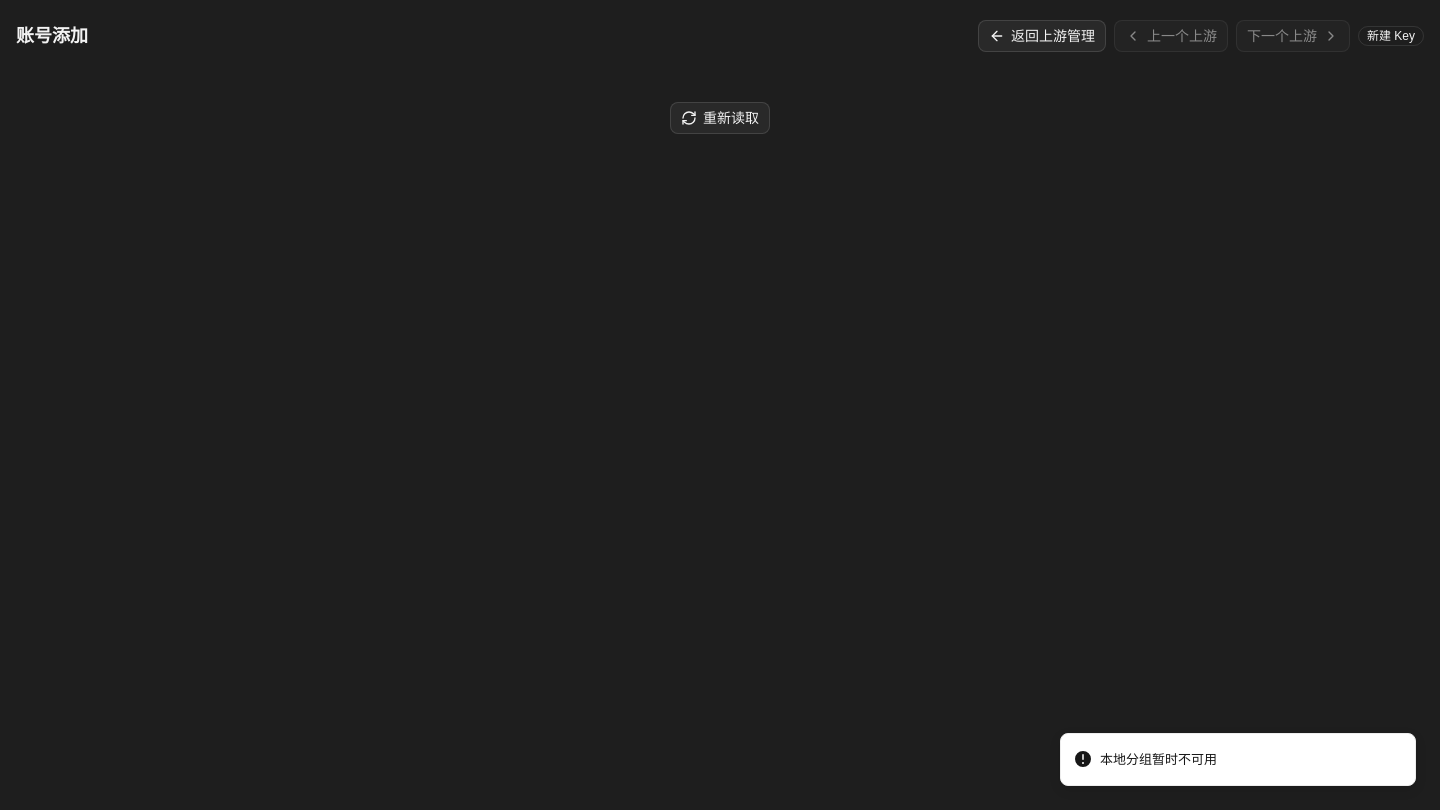
首次读取分组失败时提供重试入口并在恢复后显示开户表单
The width and height of the screenshot is (1440, 810).
Expected: the field labelled "名称" is not shown
Click the button "重新读取".
click(720, 118)  # box left=670, top=102, right=770, bottom=134
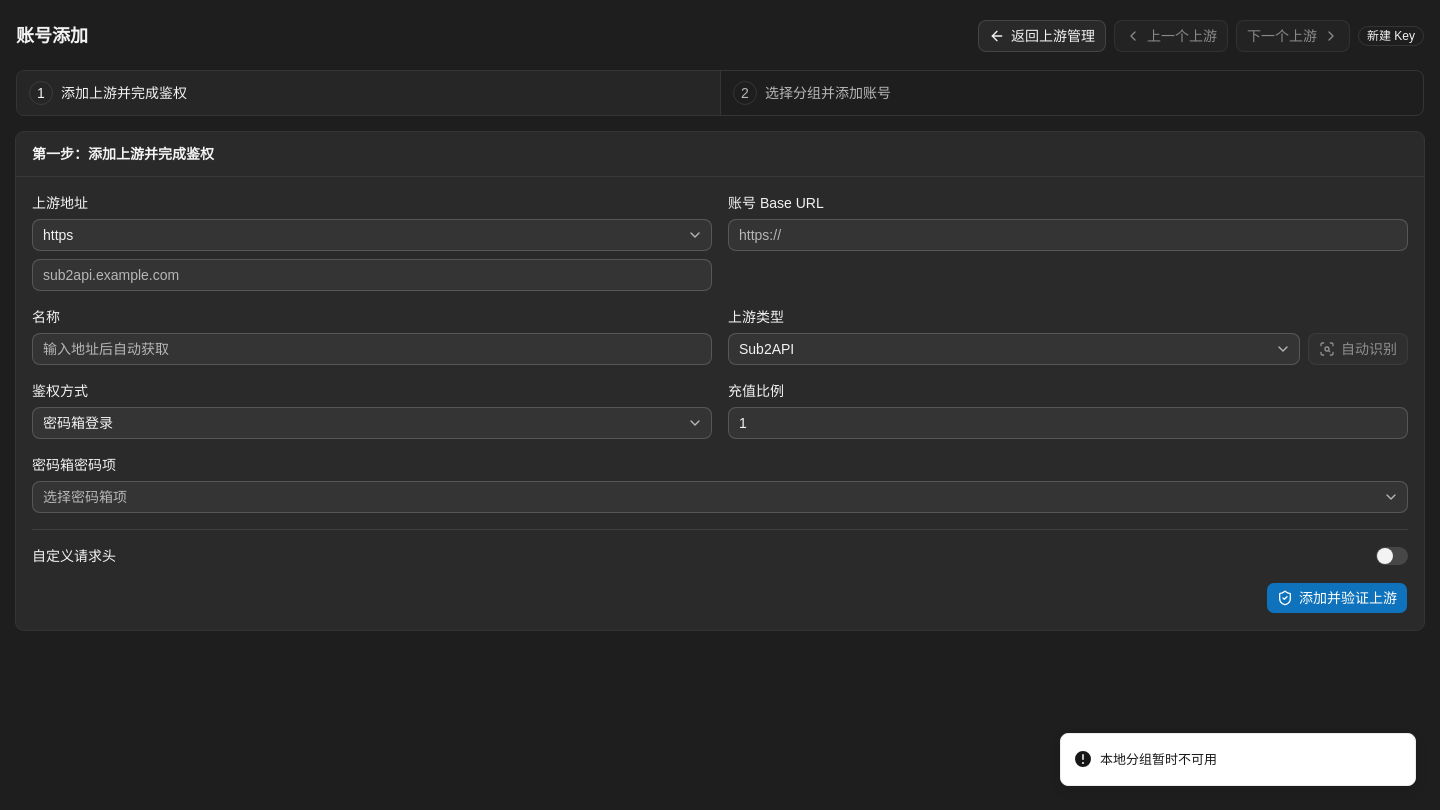
Result: the field labelled "名称" is enabled at left=32, top=333, right=712, bottom=365
